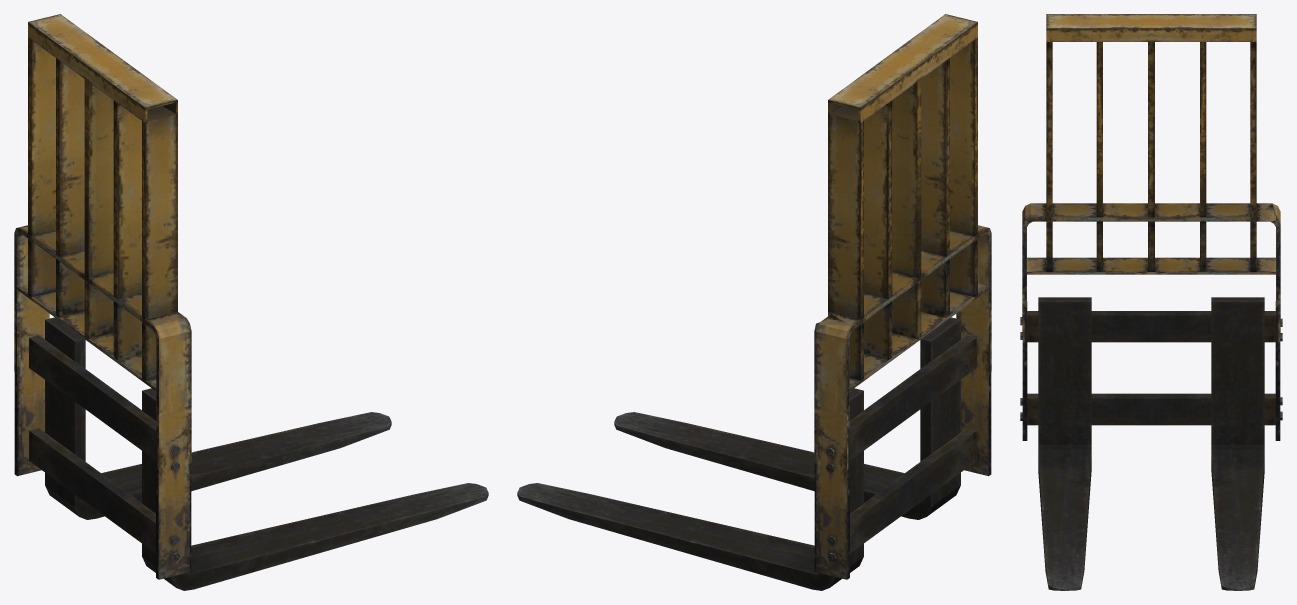
The model's file is brazo.obj.
The picture shows the model from 3 angles, left to right: view 1: azimuth 30°, elevation 25°; view 2: azimuth 150°, elevation 25°; view 3: azimuth 270°, elevation 25°; orthographic projection. The views are drawn at different scales.
Parts seen in each view (by area): view 1: 1.001; view 2: 1.001; view 3: 1.001.
Part boxes in pixels (x1,y1,x2,y2): 1.001: (14,14,488,590); 1.001: (517,14,991,590); 1.001: (1020,14,1282,590).
Size of the model in its own units: 1.23 by 1.63 by 0.889.
